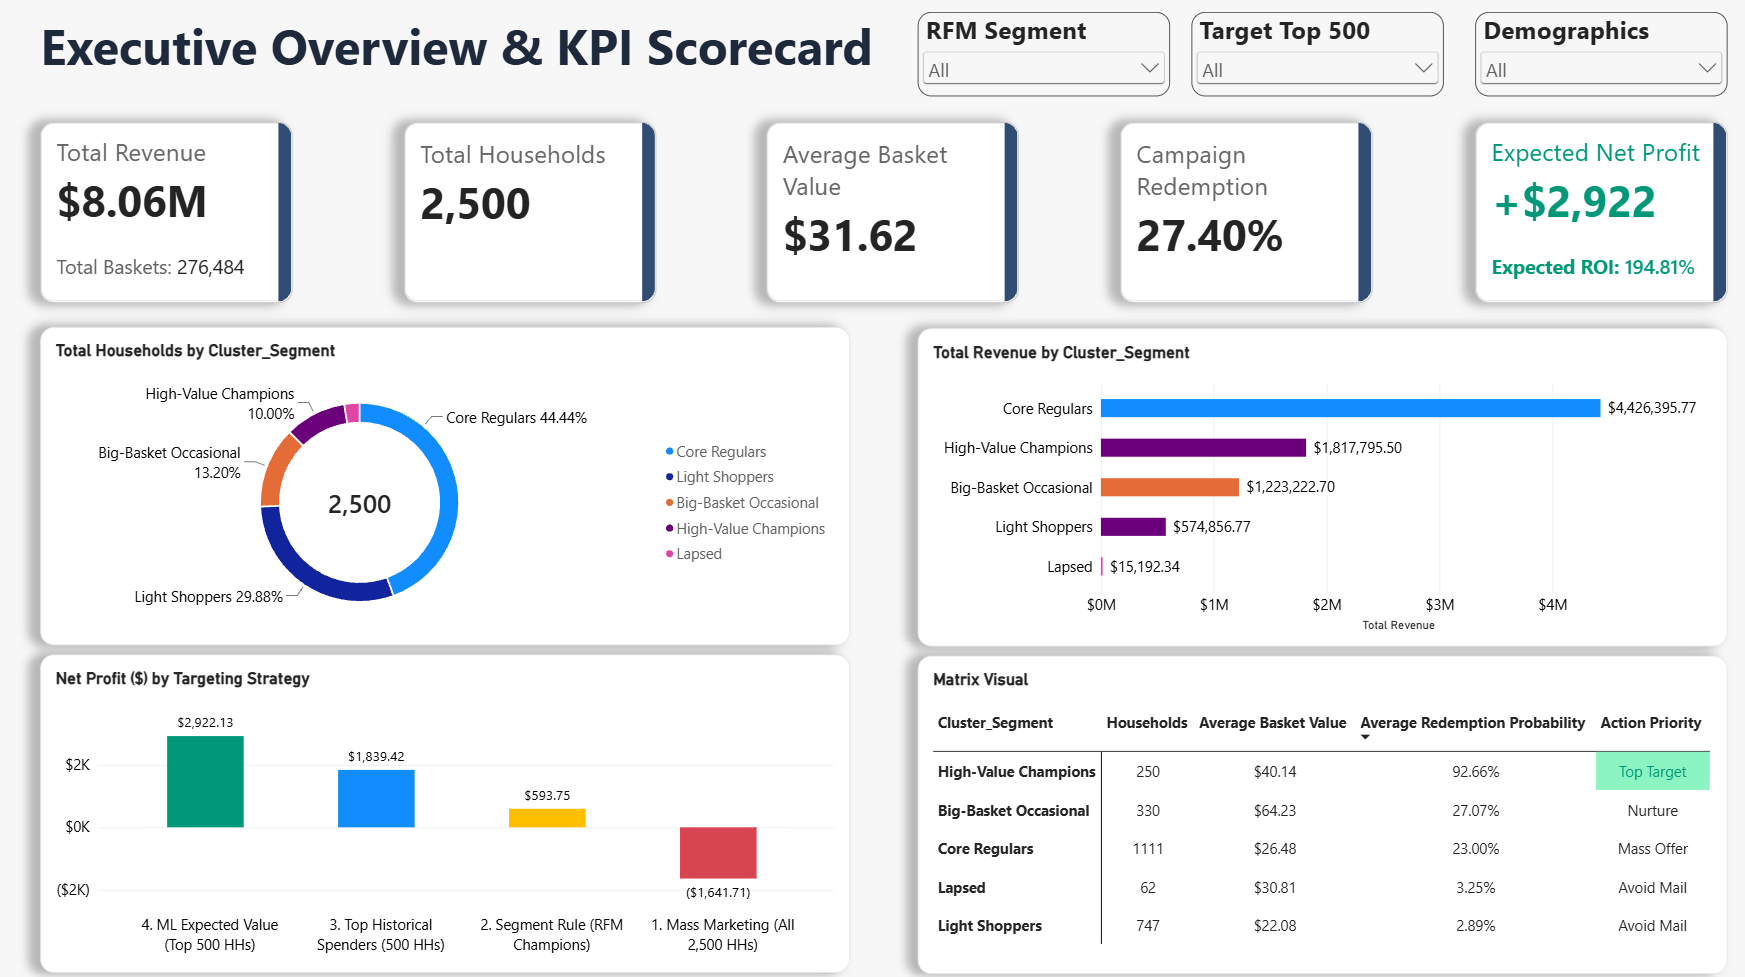

This screenshot's page, from the dashboard's own definition file:
{"tool":"powerbi","page":{"name":"Executive Overview","canvas":[1920,1080],"ordinal":0},"visuals":[{"type":"cardVisual","fields":{"Data":["_Measures.Total Revenue"]},"box":[50.7,141.2,275.1,197.3],"z":0},{"type":"textbox","box":[50.7,21.7,944.6,92.3],"z":1000},{"type":"slicer","fields":{"Values":["pbi_household_master.RFM_Segment"]},"box":[1008,21.7,275.1,92.3],"z":2000},{"type":"slicer","fields":{"Values":["pbi_household_master.target_top500"]},"box":[1306.6,21.7,275.1,92.3],"z":3000},{"type":"slicer","fields":{"Values":["pbi_household_master.has_demographics"]},"box":[1616,21.7,275.1,92.3],"z":4000},{"type":"cardVisual","fields":{"Data":["_Measures.Total Households"]},"box":[447,141.2,275.1,197.3],"z":5000},{"type":"cardVisual","fields":{"Data":["_Measures.Average Basket Value"]},"box":[843.3,141.2,275.1,197.3],"z":6000},{"type":"cardVisual","fields":{"Data":["_Measures.Actual Redemption Rate"]},"box":[1228.8,141.2,275.1,197.3],"z":7000},{"type":"cardVisual","fields":{"Data":["_Measures.Net Profit Display"]},"box":[1616,141.2,275.1,197.3],"z":8000},{"type":"donutChart","fields":{"Category":["pbi_household_master.Cluster_Segment"],"Y":["_Measures.Total Households"]},"box":[50.7,365.6,883.1,347.5],"z":9000},{"type":"clusteredBarChart","fields":{"Category":["pbi_household_master.Cluster_Segment"],"Y":["_Measures.Total Revenue"]},"box":[1008,367.4,883,347],"z":10000},{"type":"clusteredColumnChart","title":"Net Profit ($) by Targeting Strategy","fields":{"Category":["pbi_strategy_lift_benchmarks.Targeting Strategy"],"Y":["Sum(pbi_strategy_lift_benchmarks.Net Profit ($))"]},"box":[51,723,883,347],"z":11000},{"type":"pivotTable","title":"Matrix Visual","fields":{"Rows":["pbi_household_master.Cluster_Segment"],"Values":["_Measures.Total Households","_Measures.Average Basket Value","_Measures.Average Predicted Probability","_Measures.Action Priority"]},"box":[1008,723.9,883,347],"z":12000}]}

Visuals, with their boxes in screenshot pixels (x1, y1, x2, y2), scaled from the page's 1920x1080 canvas onto the 1745x977 screenshot:
cardVisual - _Measures.Total Revenue: BBox(46, 128, 296, 306)
textbox: BBox(46, 20, 905, 103)
slicer - pbi_household_master.RFM_Segment: BBox(916, 20, 1166, 103)
slicer - pbi_household_master.target_top500: BBox(1188, 20, 1438, 103)
slicer - pbi_household_master.has_demographics: BBox(1469, 20, 1719, 103)
cardVisual - _Measures.Total Households: BBox(406, 128, 656, 306)
cardVisual - _Measures.Average Basket Value: BBox(766, 128, 1016, 306)
cardVisual - _Measures.Actual Redemption Rate: BBox(1117, 128, 1367, 306)
cardVisual - _Measures.Net Profit Display: BBox(1469, 128, 1719, 306)
donutChart - pbi_household_master.Cluster_Segment x _Measures.Total Households: BBox(46, 331, 849, 645)
clusteredBarChart - pbi_household_master.Cluster_Segment x _Measures.Total Revenue: BBox(916, 332, 1719, 646)
"Net Profit ($) by Targeting Strategy" clusteredColumnChart: BBox(46, 654, 849, 968)
"Matrix Visual" pivotTable: BBox(916, 655, 1719, 969)
